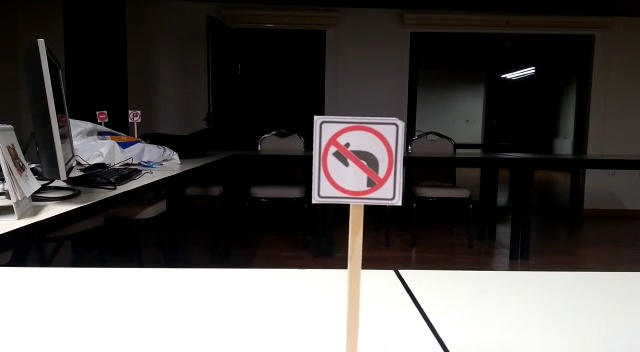sola_donulmez: (315, 118, 401, 206)
